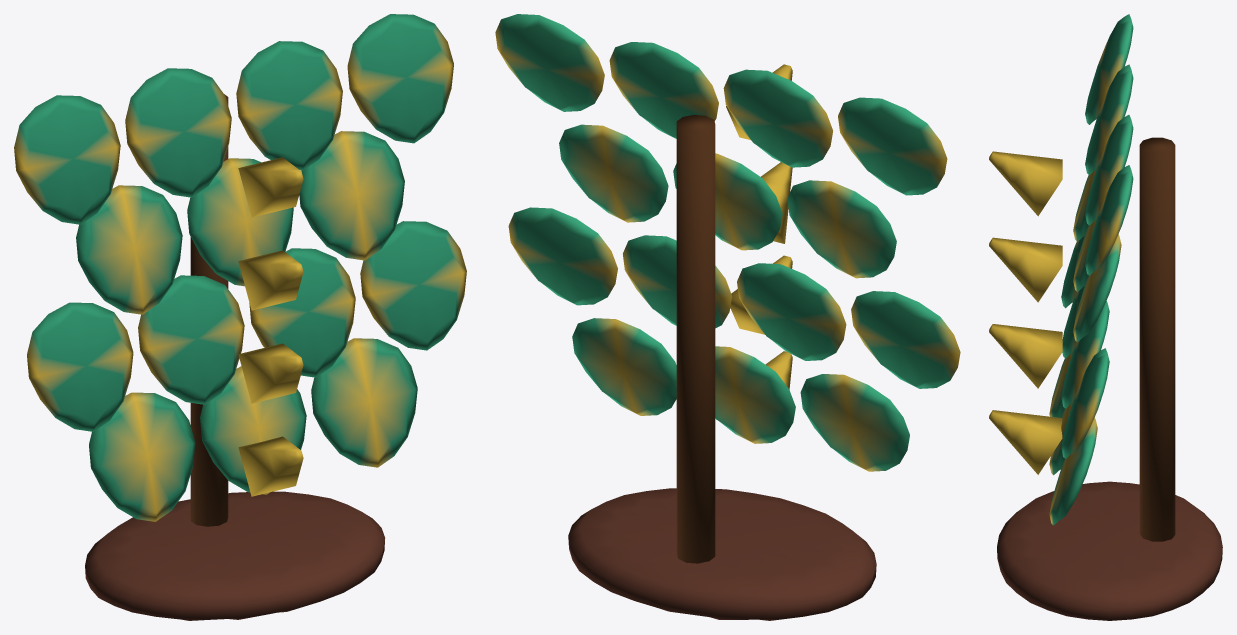
File: ing_scale.glb
3 renders of one model, left to right at view 1: azimuth 30°, elevation 25°; view 2: azimuth 150°, elevation 25°; view 3: azimuth 270°, elevation 25°, orthographic. The views are drawn at different scales.
Parts seen in each view (by area): view 1: ing_scale; view 2: ing_scale; view 3: ing_scale.
Boxes of the visible parts, box(x1,y1,x2,y2) form: ing_scale: box(14, 14, 466, 620); ing_scale: box(495, 14, 960, 620); ing_scale: box(989, 14, 1222, 620).
Size of the model in its own units: 0.3941 by 0.4456 by 0.1966.
